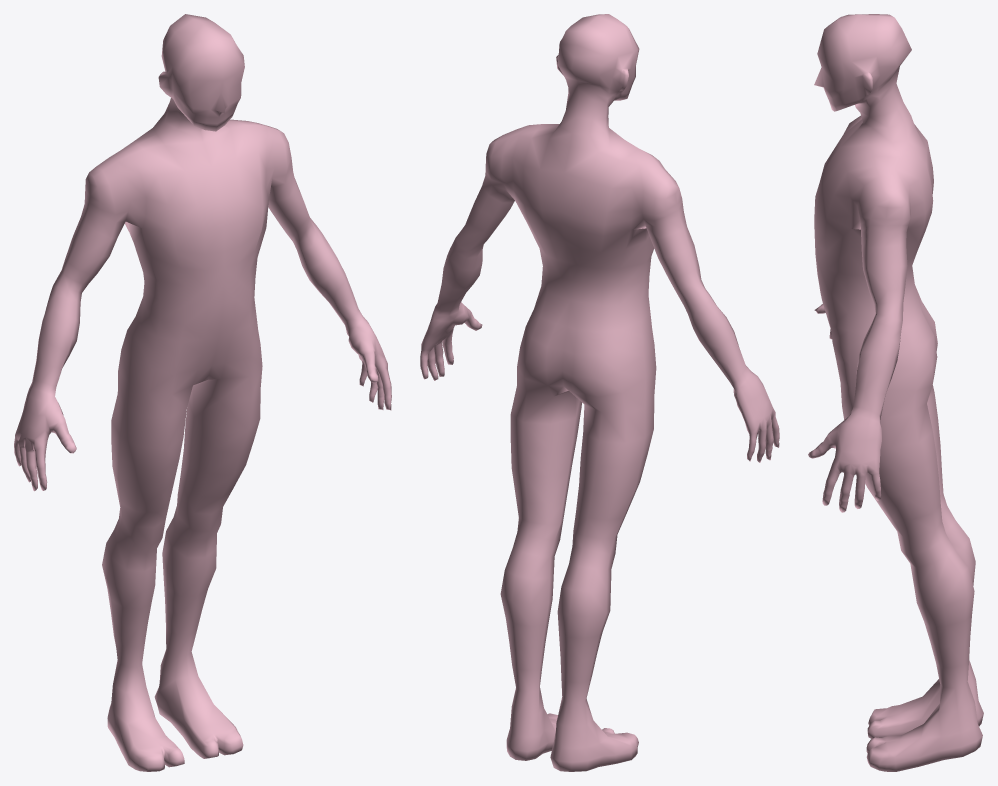
Rendered from body2.glb.
The picture shows the model from 3 angles, left to right: view 1: azimuth 30°, elevation 25°; view 2: azimuth 150°, elevation 25°; view 3: azimuth 270°, elevation 25°; orthographic projection. The views are drawn at different scales.
Parts seen in each view (by area): view 1: node_id8; view 2: node_id8; view 3: node_id8.
Part boxes in pixels (x1,y1,x2,y2): node_id8: (14,14,391,771); node_id8: (420,14,779,771); node_id8: (808,14,983,771).
Bounding box in the file's own units: 0.2577 × 0.5126 × 0.1115.
Materials: 1 (1 with a texture image).
